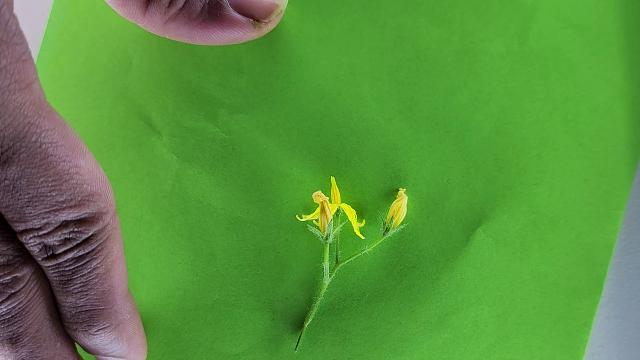Anthesis: (296, 176, 366, 240), (383, 186, 410, 234)
